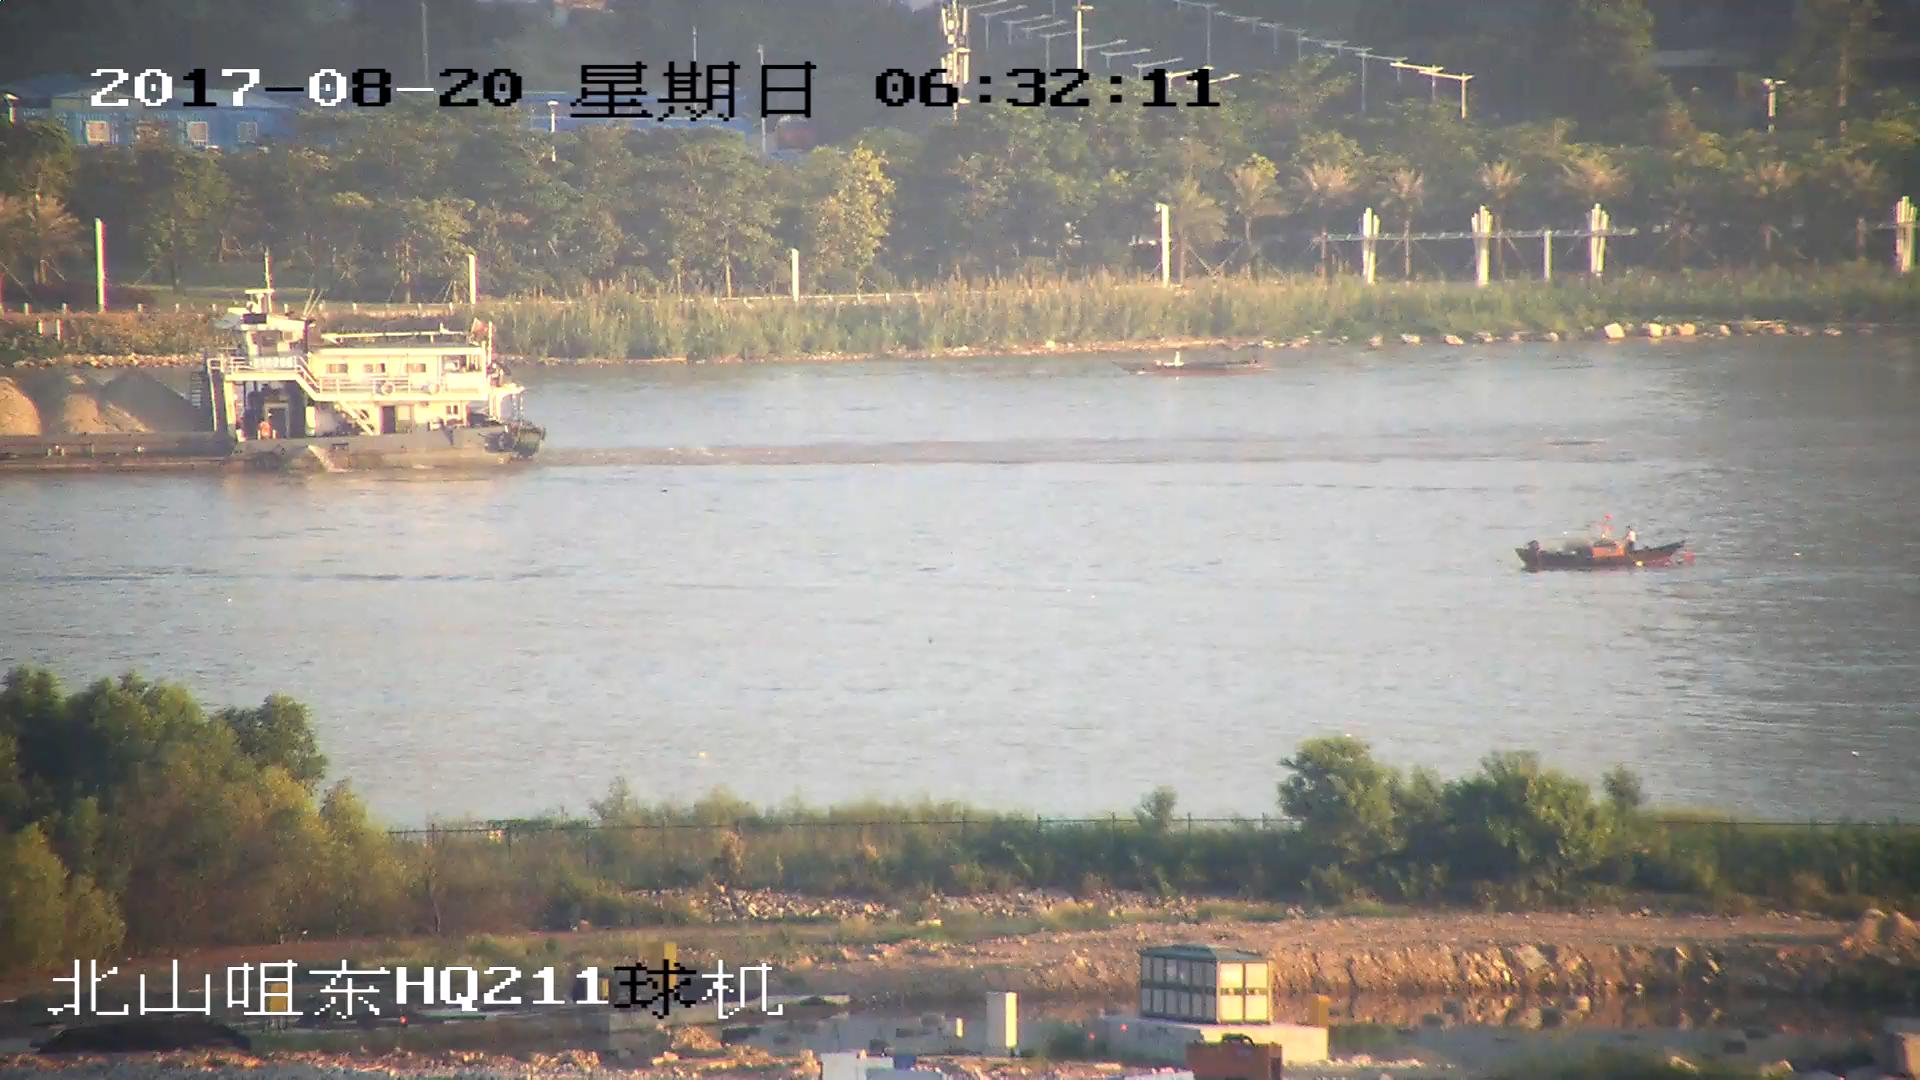fishing boat: (1516, 515, 1706, 577)
ore carrier: (1, 267, 544, 470)
